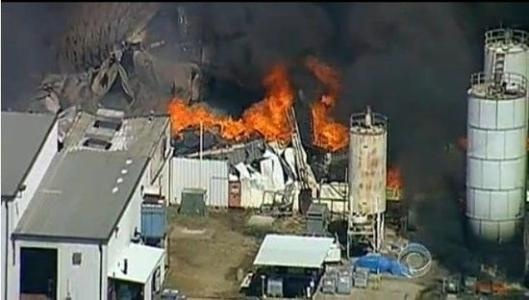fire: (162, 67, 326, 145), (308, 75, 347, 151), (387, 165, 403, 193)
